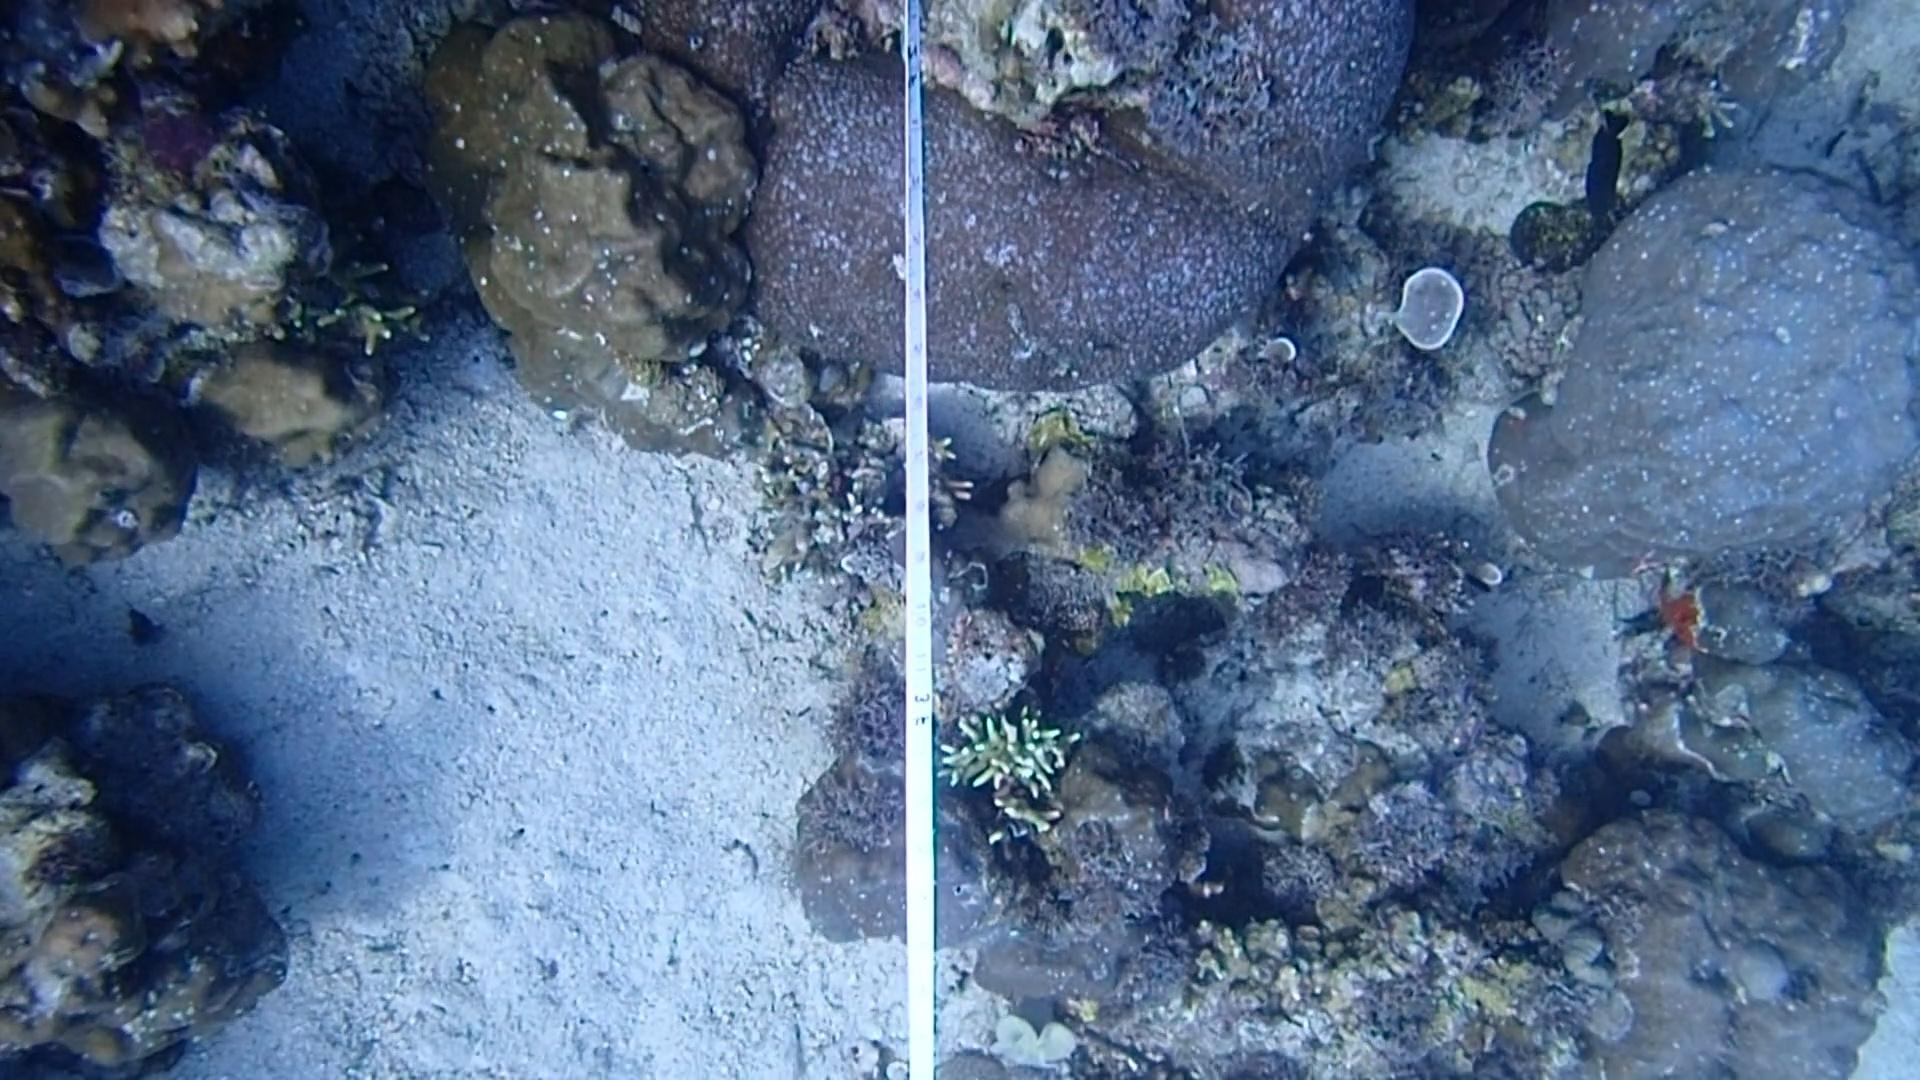Dark Fish: (1576, 111, 1639, 215)
